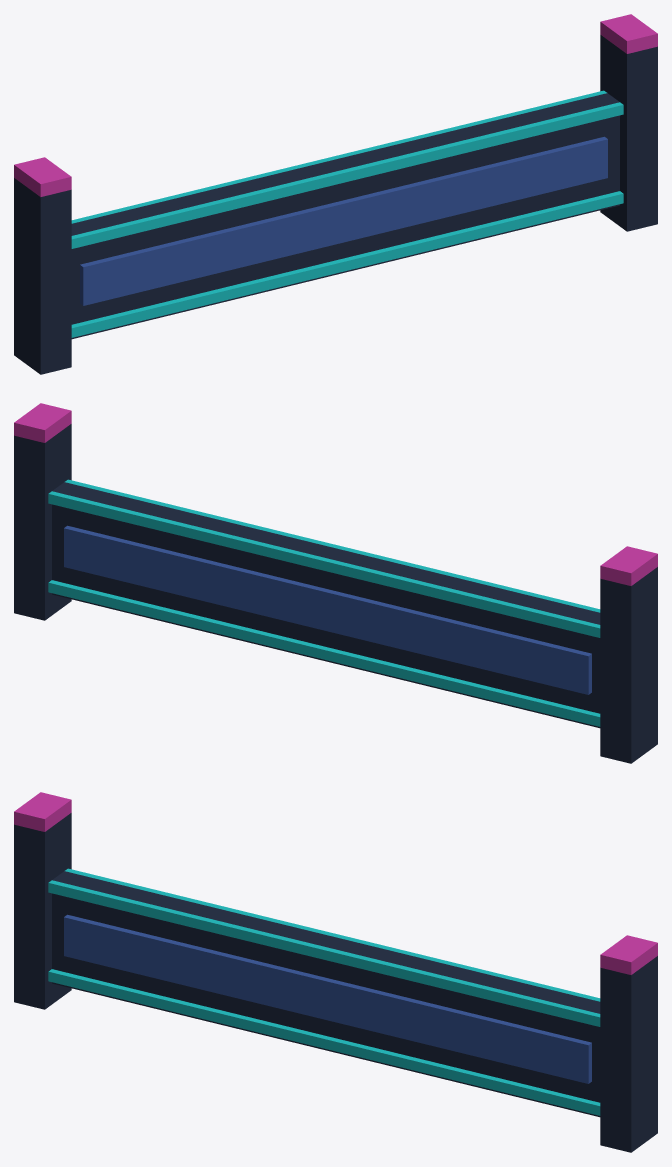
The model's file is Neon_LightBarrier_Showcase.glb.
The picture shows the model from 3 angles, top to bottom: view 1: azimuth 30°, elevation 25°; view 2: azimuth 150°, elevation 25°; view 3: azimuth 330°, elevation 25°; orthographic projection.
Visible parts, largest first — view 1: Neon_LightBarrier_Showcase; view 2: Neon_LightBarrier_Showcase; view 3: Neon_LightBarrier_Showcase.
Part boxes in pixels (x1,y1,x2,y2): Neon_LightBarrier_Showcase: [14, 14, 657, 374]; Neon_LightBarrier_Showcase: [14, 403, 657, 763]; Neon_LightBarrier_Showcase: [14, 792, 657, 1152].
Size of the model in its own units: 4 by 1.18 by 0.3.
